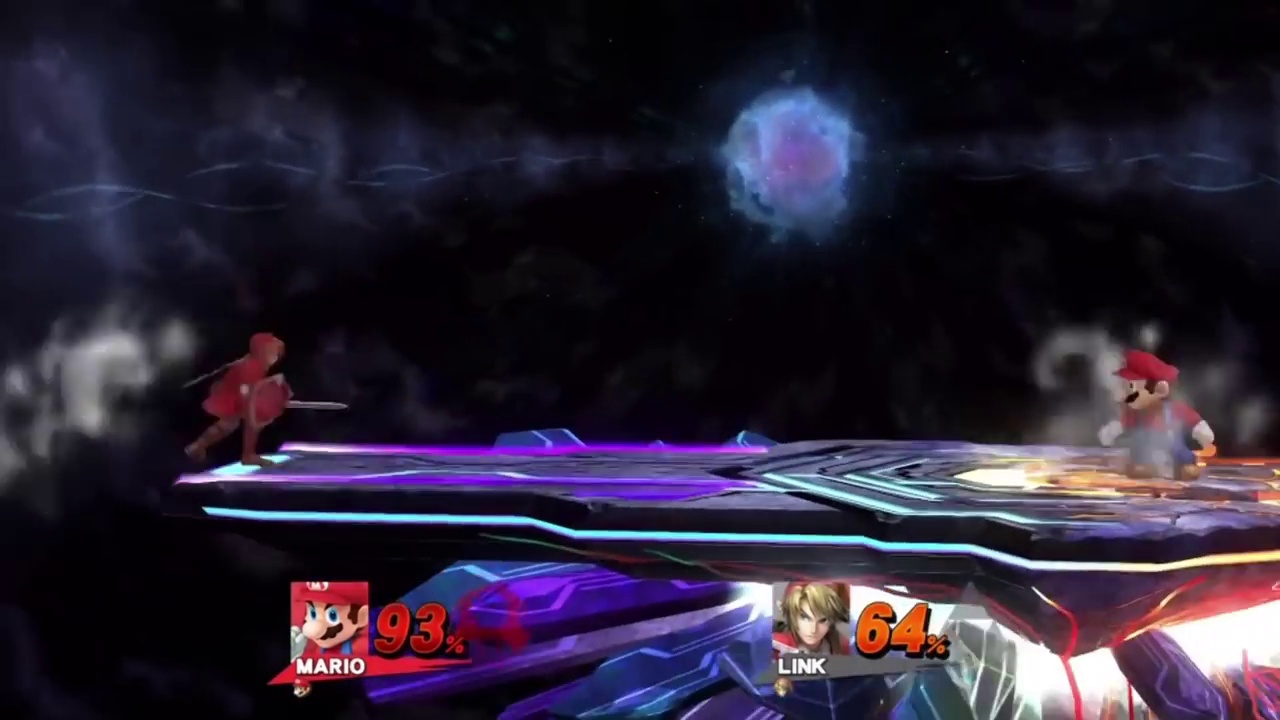Mario: (1098, 352, 1215, 479)
